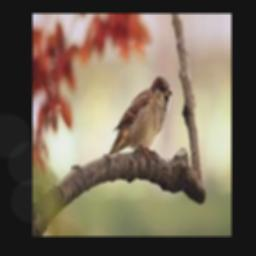Sparrow: (107, 76, 172, 155)
